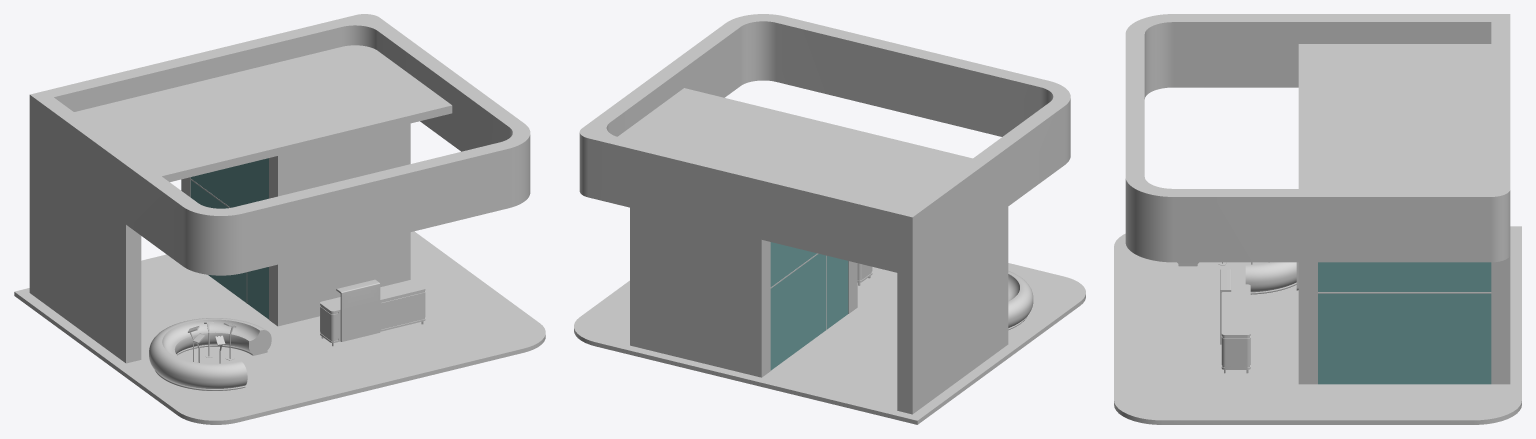
Rendered from ExpoBoothOptimized.glb.
3 views of the same model, side by side, from view 1: azimuth 30°, elevation 25°; view 2: azimuth 150°, elevation 25°; view 3: azimuth 270°, elevation 25° (orthographic). The views are drawn at different scales.
Visible parts, largest first — view 1: ExpoBooth; view 2: ExpoBooth; view 3: ExpoBooth.
Part boxes in pixels (left/top/right/bottom): ExpoBooth: left=14, top=14, right=545, bottom=424; ExpoBooth: left=574, top=14, right=1085, bottom=424; ExpoBooth: left=1114, top=14, right=1521, bottom=424.
Bounding box in the file's own units: 0.0906 × 0.0485 × 0.0806.
